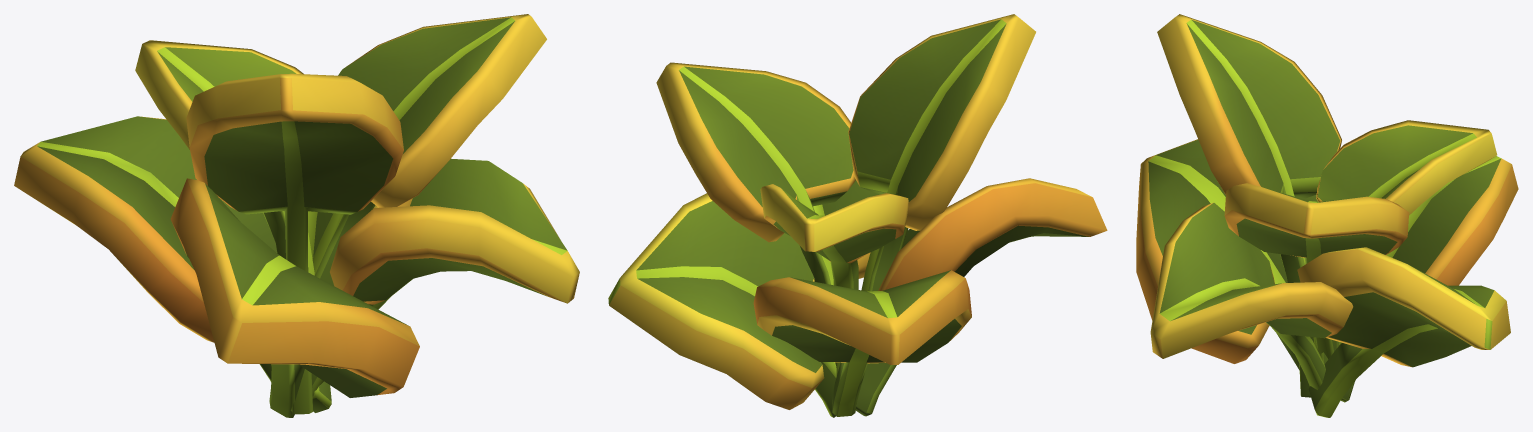
Rendered from philodendron_orange_small_LOD_group.fbx.
The picture shows the model from 3 angles, left to right: view 1: azimuth 30°, elevation 25°; view 2: azimuth 150°, elevation 25°; view 3: azimuth 270°, elevation 25°; orthographic projection. The views are drawn at different scales.
Visible parts, largest first — view 1: philodendron_orange_small_LOD0; view 2: philodendron_orange_small_LOD0; view 3: philodendron_orange_small_LOD0.
Boxes of the visible parts, box(x1,y1,x2,y2) form: philodendron_orange_small_LOD0: box(14, 14, 579, 417); philodendron_orange_small_LOD0: box(608, 14, 1107, 417); philodendron_orange_small_LOD0: box(1136, 14, 1518, 417).
Size of what is drawn, in the model's own units: 232 by 224 by 220.
Materials: 1 (1 with a texture image).
